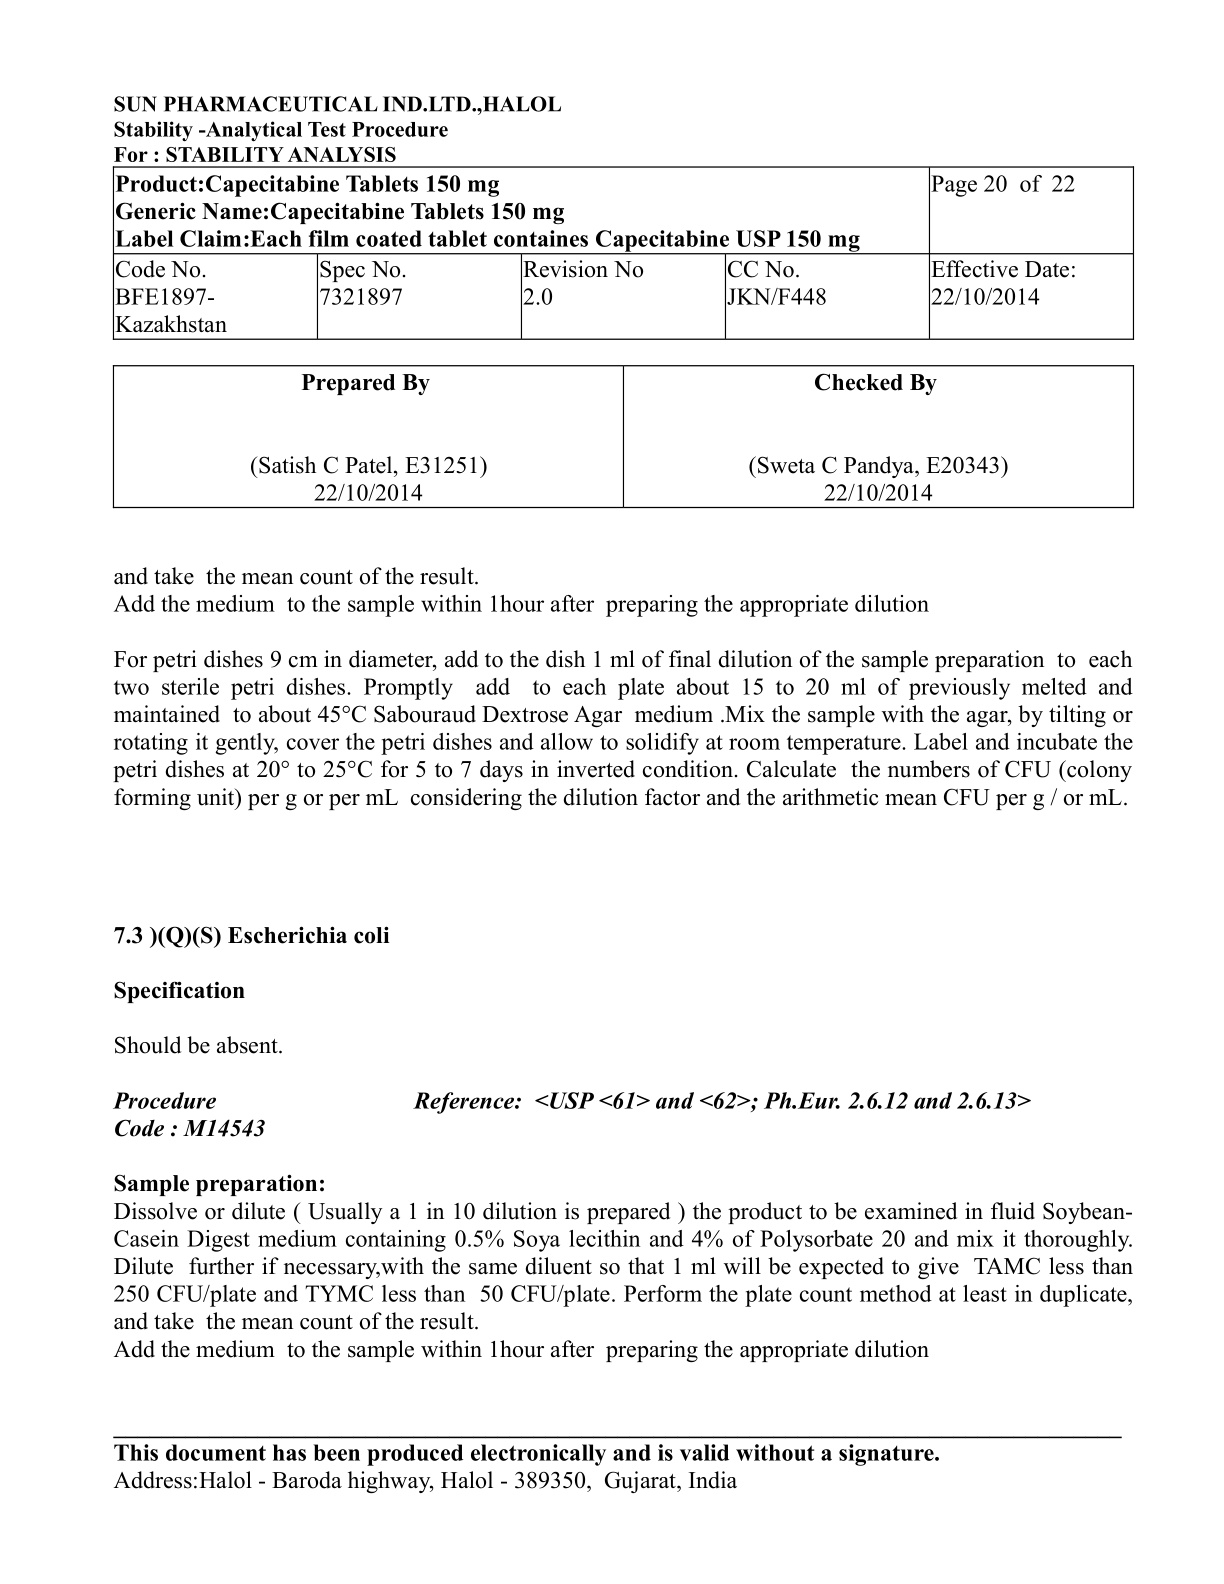merged_cells: (112, 166, 1135, 341)
partial_lined: (112, 364, 1135, 509)
